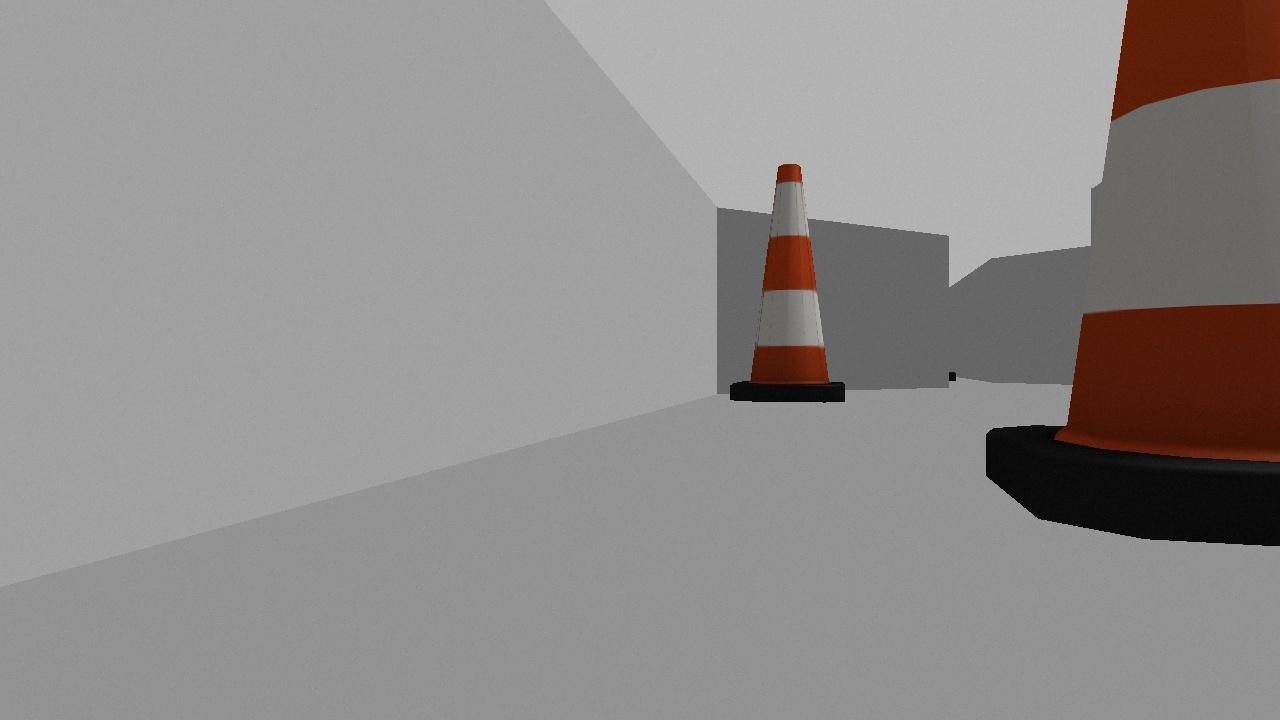cone_barrel: (977, 0, 1279, 549), (724, 149, 856, 407)
